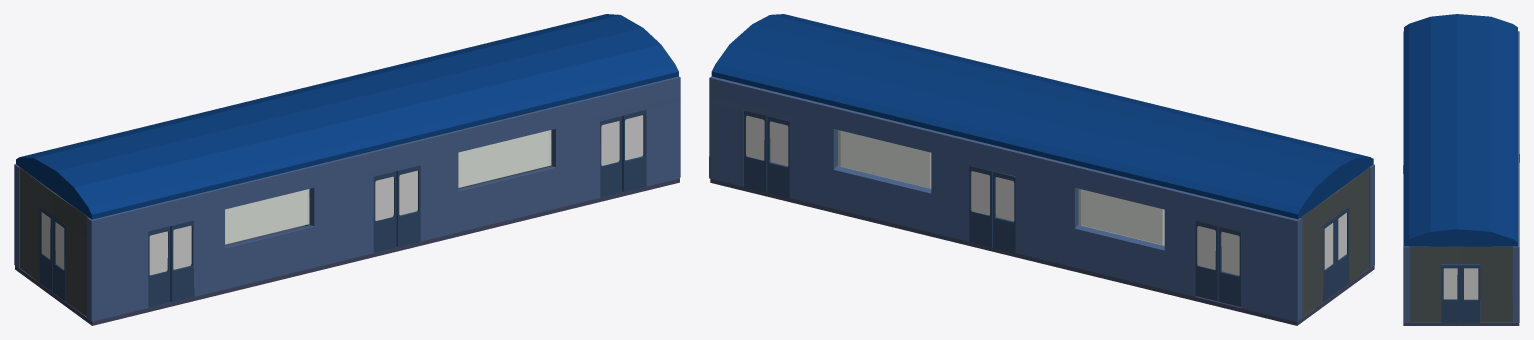
The model's file is Train(3 Door) (1).fbx.
The picture shows the model from 3 angles, left to right: view 1: azimuth 30°, elevation 25°; view 2: azimuth 150°, elevation 25°; view 3: azimuth 270°, elevation 25°; orthographic projection. The views are drawn at different scales.
Parts seen in each view (by area): view 1: Atap, Tembok.004, Tembok.003, Lantai, Jendela.002, Jendela, Pintu(bg).008, Pintu(bg).006, Pintu(bg).007, Pintu(bg).012, Pintu(bg).011, Pintu(bg).005 (+9 smaller); view 2: Atap, Tembok, Tembok.003, Jendela.003, Lantai, Jendela.001, Pintu(bg).001, Pintu(bg).010, Pintu(bg).004, Pintu(bg).002, Pintu(bg).009, Pintu(bg).003 (+9 smaller); view 3: Atap, Tembok.2, Tembok, Tembok.004, Pintu.1, Pintu.002, Kaca.001, Kaca, Lantai.
Part boxes in pixels (<box>): Atap: <box>16,14,678,219</box>; Tembok.004: <box>87,76,680,321</box>; Tembok.003: <box>19,166,88,316</box>; Lantai: <box>15,139,679,325</box>; Jendela.002: <box>458,130,551,187</box>; Jendela: <box>225,189,309,244</box>; Pintu(bg).008: <box>396,165,420,246</box>; Pintu(bg).006: <box>170,220,193,302</box>; Pintu(bg).007: <box>373,171,396,252</box>; Pintu(bg).012: <box>622,110,645,191</box>; Pintu(bg).011: <box>600,116,622,197</box>; Pintu(bg).005: <box>148,226,170,307</box>; Atap: <box>711,14,1373,219</box>; Tembok: <box>709,76,1302,321</box>; Tembok.003: <box>1300,167,1370,316</box>; Jendela.003: <box>838,130,931,188</box>; Lantai: <box>710,178,1374,325</box>; Jendela.001: <box>1078,189,1164,245</box>; Pintu(bg).001: <box>1218,226,1241,306</box>; Pintu(bg).010: <box>744,110,767,192</box>; Pintu(bg).004: <box>969,165,992,247</box>; Pintu(bg).002: <box>1195,221,1218,301</box>; Pintu(bg).009: <box>767,116,789,198</box>; Pintu(bg).003: <box>993,171,1015,253</box>; Atap: <box>1404,14,1517,246</box>; Tembok.2: <box>1409,246,1512,322</box>; Tembok: <box>1512,31,1519,322</box>; Tembok.004: <box>1403,31,1410,322</box>; Pintu.1: <box>1441,264,1460,322</box>; Pintu.002: <box>1461,264,1480,322</box>; Kaca.001: <box>1464,268,1478,299</box>; Kaca: <box>1443,268,1457,299</box>; Lantai: <box>1403,301,1519,325</box>.
Bounding box in the file's own units: 4848 × 1007 × 1104.
